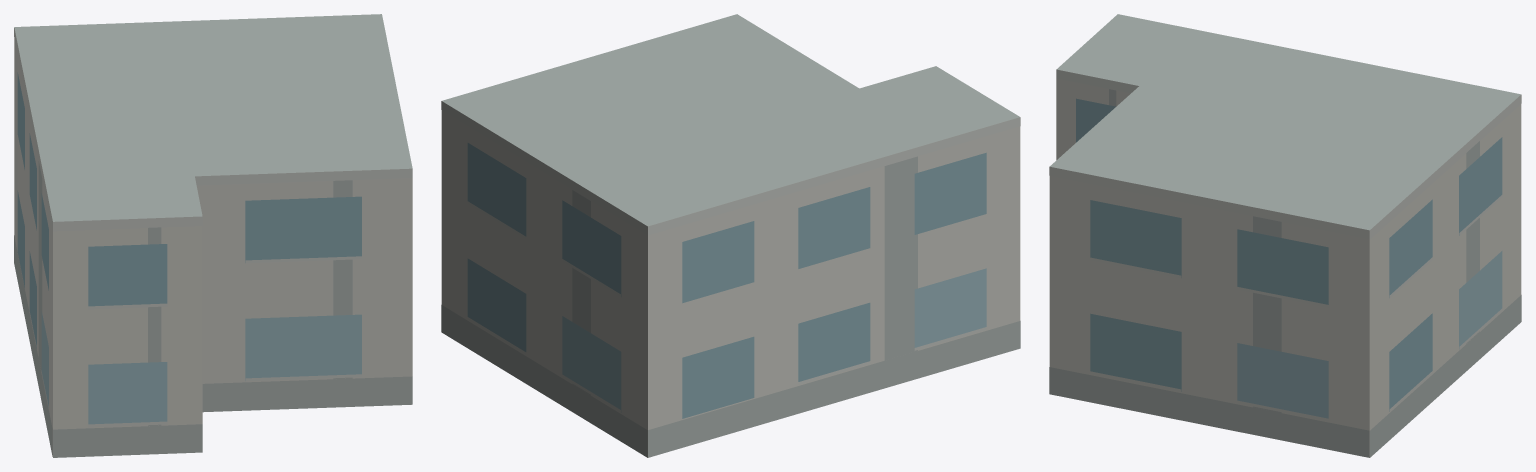
The model's file is residential-a88b413a-03e2-4f58-b3bc-95708273d881.glb.
3 views of the same model, side by side, from view 1: azimuth 30°, elevation 25°; view 2: azimuth 150°, elevation 25°; view 3: azimuth 270°, elevation 25° (orthographic). The views are drawn at different scales.
Parts seen in each view (by area): view 1: residential-a88b413a-03e2-4f58-b3bc-95708273d881.tmp; view 2: residential-a88b413a-03e2-4f58-b3bc-95708273d881.tmp; view 3: residential-a88b413a-03e2-4f58-b3bc-95708273d881.tmp.
Boxes of the visible parts, bbox=[...] form: residential-a88b413a-03e2-4f58-b3bc-95708273d881.tmp: bbox=[14, 14, 412, 457]; residential-a88b413a-03e2-4f58-b3bc-95708273d881.tmp: bbox=[441, 14, 1020, 457]; residential-a88b413a-03e2-4f58-b3bc-95708273d881.tmp: bbox=[1049, 14, 1521, 457].
Bounding box in the file's own units: 12.45 × 6.1 × 11.48.
